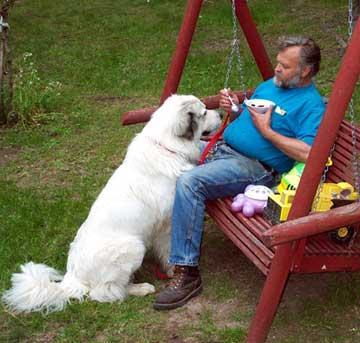Great_Pyrenees: (1, 94, 227, 316)
